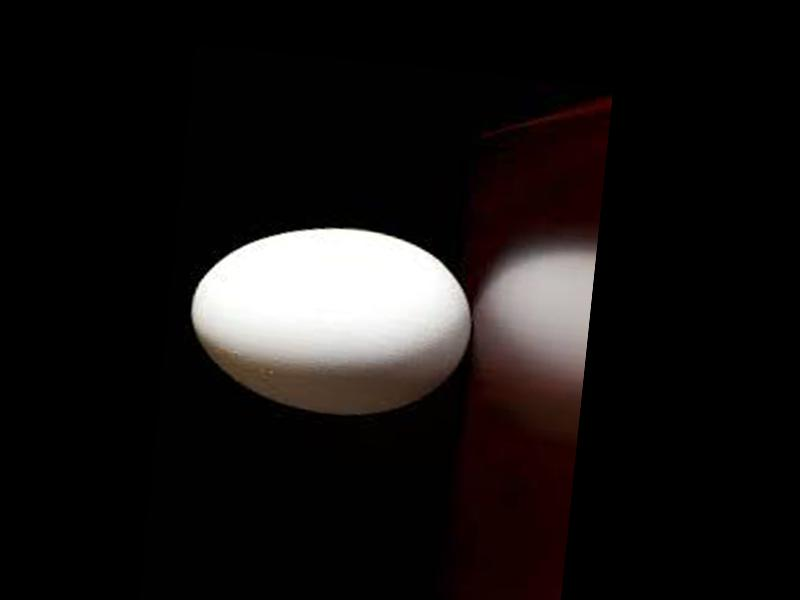Eggs: (182, 214, 480, 425)
